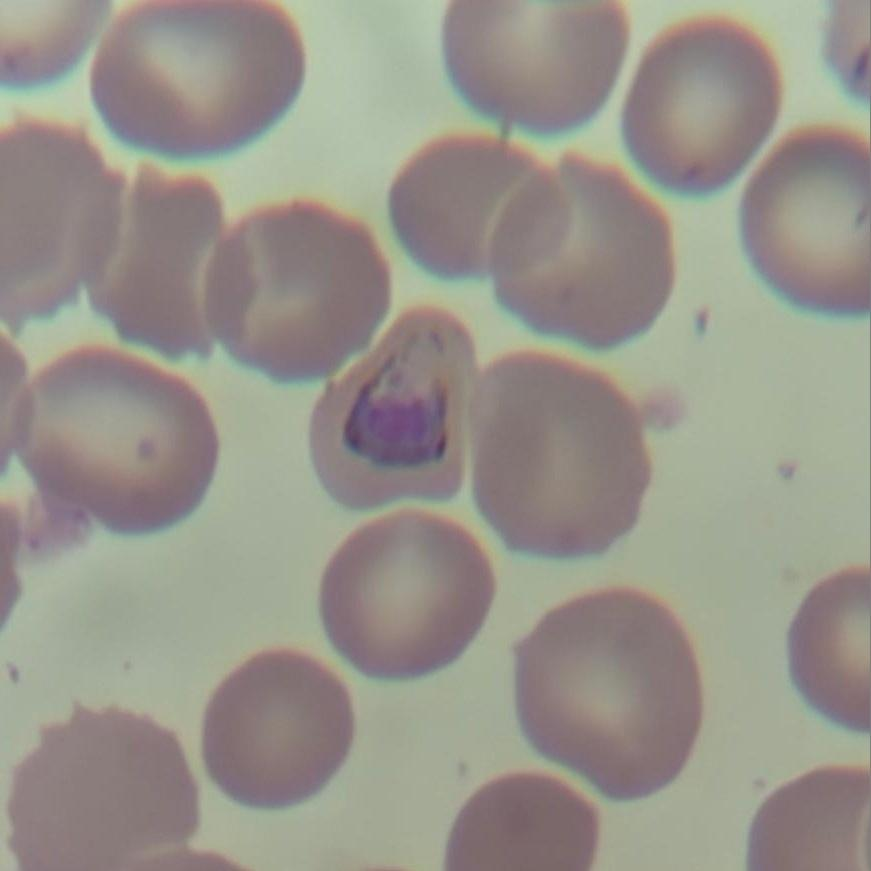Infected: (307, 304, 480, 512)
Uninfected: (512, 587, 700, 801), (8, 352, 220, 535), (482, 155, 677, 346), (468, 357, 649, 561), (198, 202, 392, 383), (90, 0, 302, 156), (77, 174, 253, 360), (3, 707, 201, 871), (320, 509, 496, 680), (387, 130, 574, 278), (623, 24, 780, 194), (738, 127, 871, 316), (438, 0, 629, 130), (0, 120, 120, 324), (200, 650, 353, 809)
